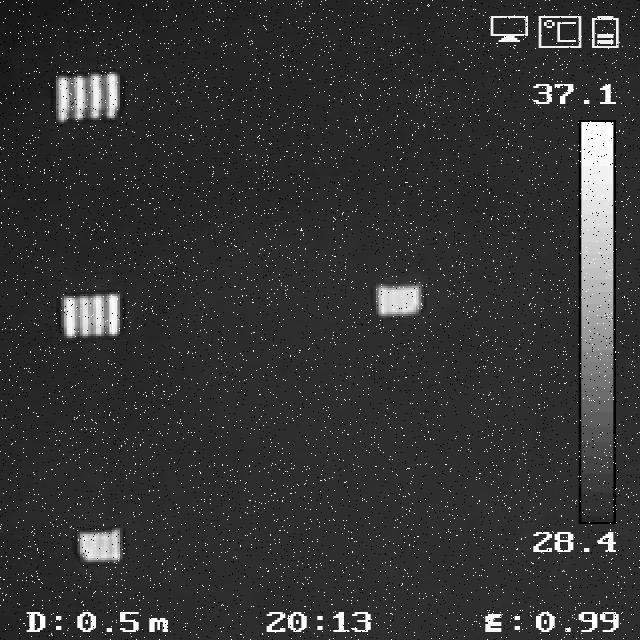Distinguishable 4-bar target: (55, 75, 124, 117), (64, 295, 120, 335)
Indistinguishable 4-bar target: (377, 288, 420, 313)
threshold 4-bar target: (78, 529, 122, 564)
